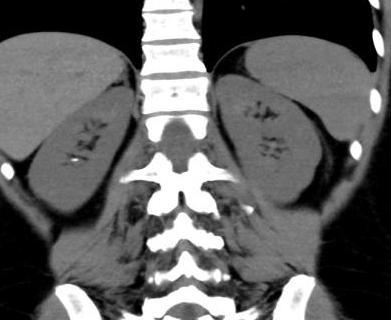Tas_Var: (70, 156, 80, 163)
